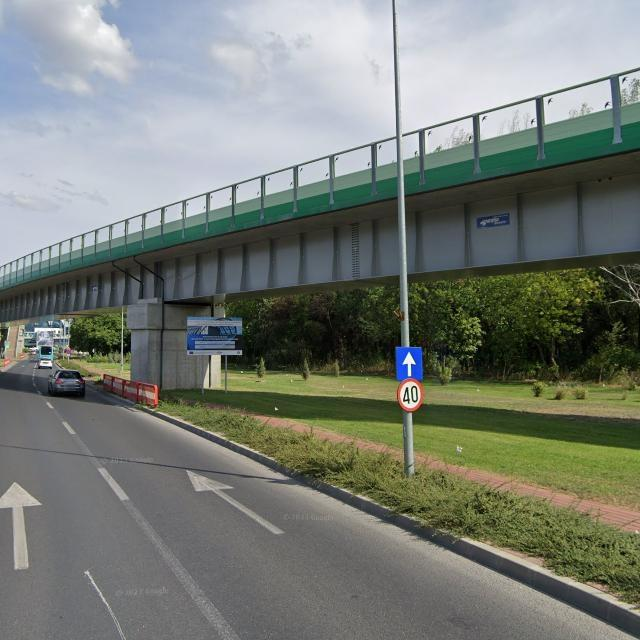forb_speed_over_40: (397, 378, 424, 412)
